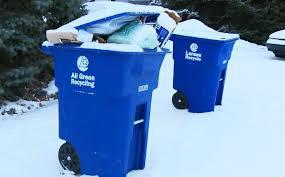Plastic: (145, 9, 173, 53)
